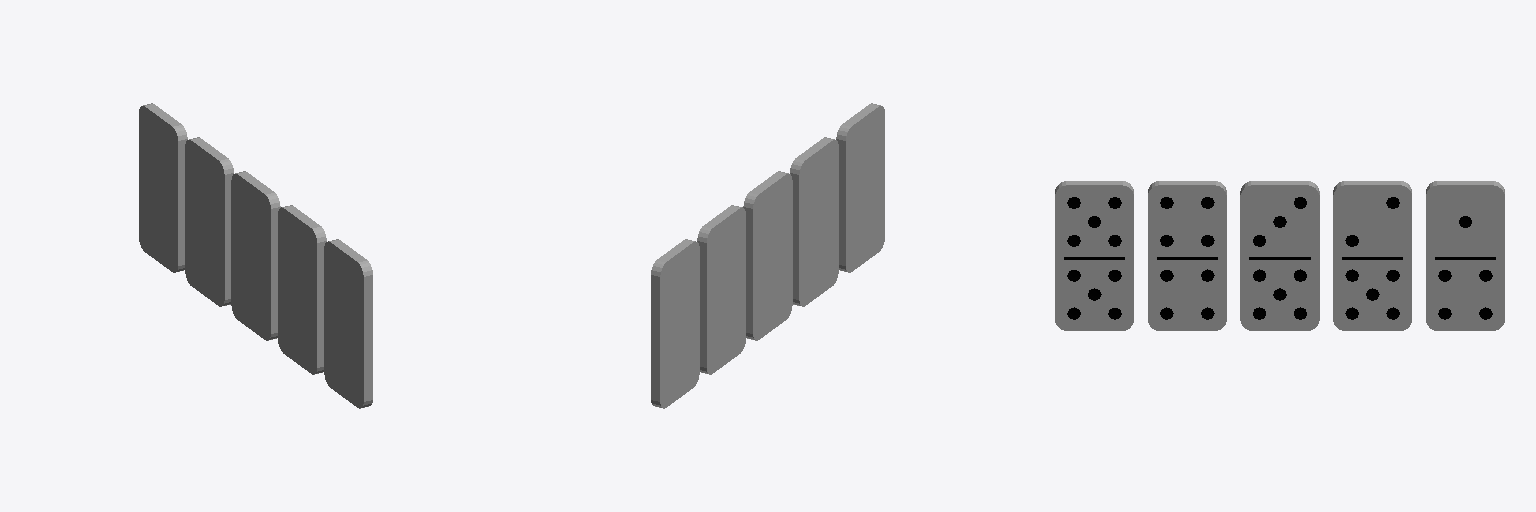
The model's file is Dominoes_Low_Poly.obj.
3 views of the same model, side by side, from view 1: azimuth 30°, elevation 25°; view 2: azimuth 150°, elevation 25°; view 3: azimuth 270°, elevation 25° (orthographic).
Parts seen in each view (by area): view 1: Domino_5_Plane.006, Domino_3_Plane.001, Domino_2_Plane.005, Domino_4_Plane.004, Domino_1_Plane.007; view 2: Domino_1_Plane.007, Domino_3_Plane.001, Domino_4_Plane.004, Domino_2_Plane.005, Domino_5_Plane.006; view 3: Domino_3_Plane.001, Domino_1_Plane.007, Domino_5_Plane.006, Domino_2_Plane.005, Domino_4_Plane.004.
Boxes of the visible parts, x1=… form: Domino_5_Plane.006: x1=324, y1=239, x2=372, y2=408; Domino_3_Plane.001: x1=231, y1=171, x2=280, y2=340; Domino_2_Plane.005: x1=185, y1=137, x2=233, y2=306; Domino_4_Plane.004: x1=278, y1=205, x2=326, y2=374; Domino_1_Plane.007: x1=139, y1=103, x2=187, y2=272; Domino_1_Plane.007: x1=651, y1=239, x2=699, y2=408; Domino_3_Plane.001: x1=743, y1=171, x2=792, y2=340; Domino_4_Plane.004: x1=790, y1=137, x2=838, y2=306; Domino_2_Plane.005: x1=697, y1=205, x2=745, y2=374; Domino_5_Plane.006: x1=836, y1=103, x2=884, y2=272; Domino_3_Plane.001: x1=1240, y1=181, x2=1319, y2=330; Domino_1_Plane.007: x1=1426, y1=181, x2=1504, y2=330; Domino_5_Plane.006: x1=1055, y1=181, x2=1133, y2=330; Domino_2_Plane.005: x1=1333, y1=181, x2=1411, y2=330; Domino_4_Plane.004: x1=1148, y1=181, x2=1226, y2=330.
Size of the model in its own units: 0.1181 by 1.73 by 4.86.